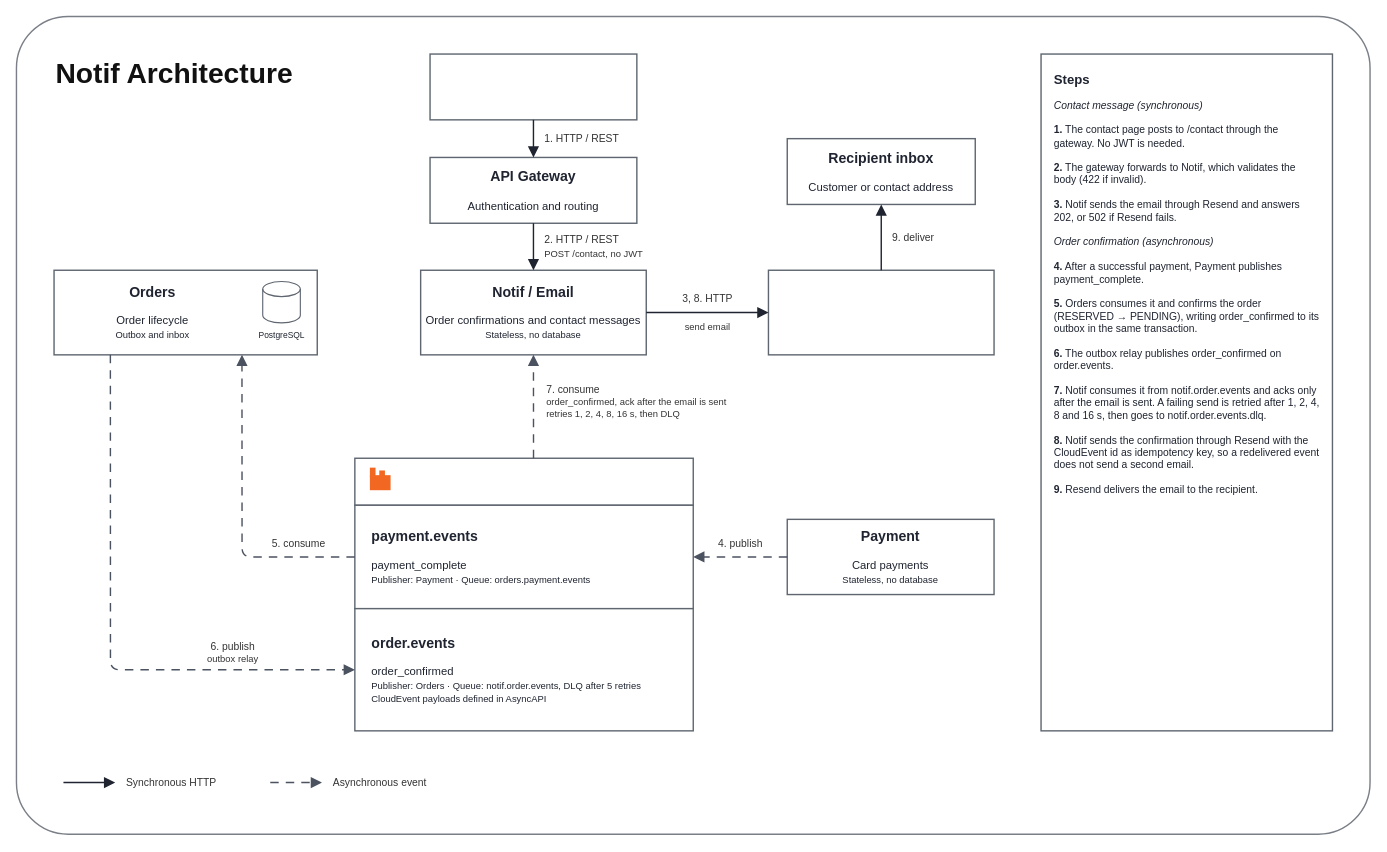
Some shapes in this 1387 by 852 pixel diagram are drawn without their labels. Here are the shapes that lost their labels. From the top down, the box of each, then its label:
(429, 53, 637, 120): Web frontend Contact page
(767, 269, 994, 355): Resend Email provider Deduplicates on idempotency key (24 h)
(354, 457, 694, 506): Rabbit MQ
